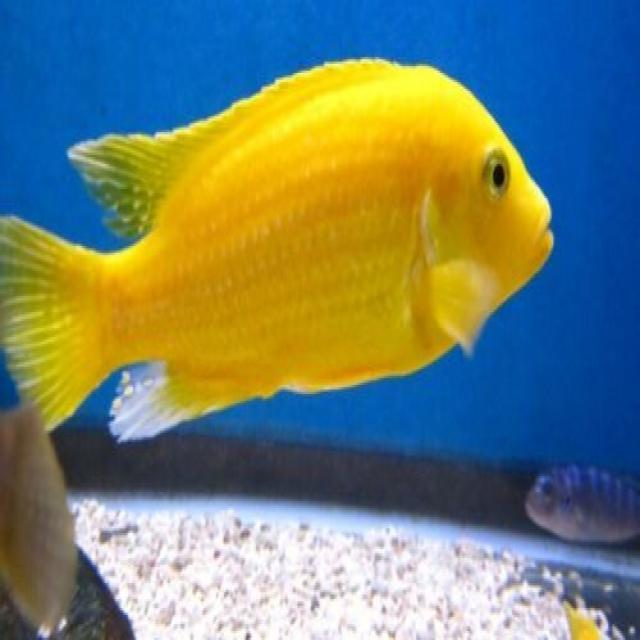YellowCichlid: (0, 46, 584, 482)
